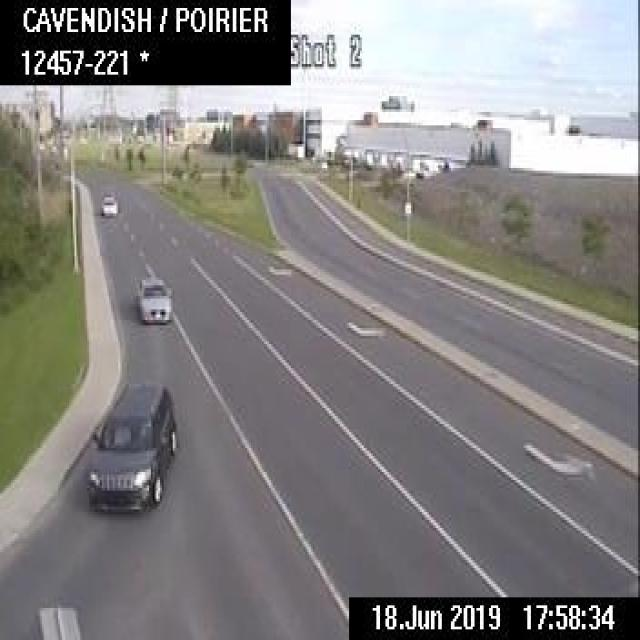vehicle: (84, 381, 177, 514), (135, 277, 171, 320), (100, 192, 116, 216)
